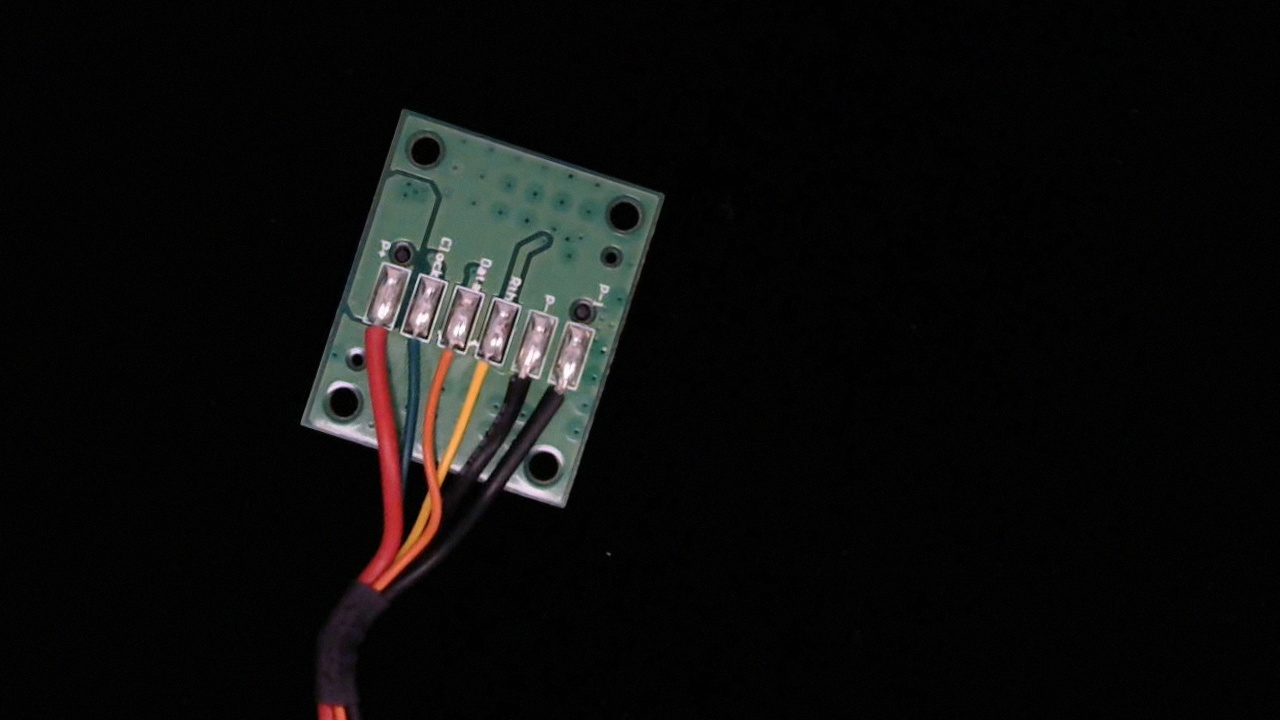Black: (498, 352, 546, 417)
Black1: (536, 364, 582, 431)
Green: (386, 316, 436, 380)
Orange: (420, 328, 471, 401)
Red: (350, 302, 400, 376)
Yellow: (460, 342, 509, 410)
